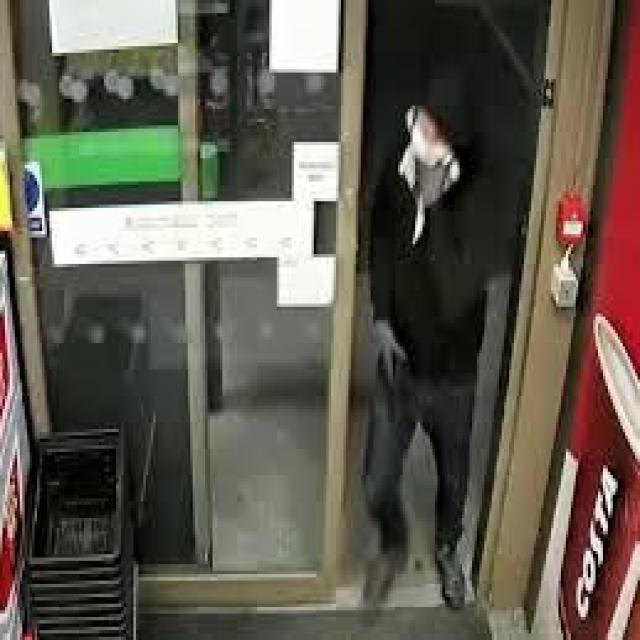weapon: (368, 340, 398, 426)
